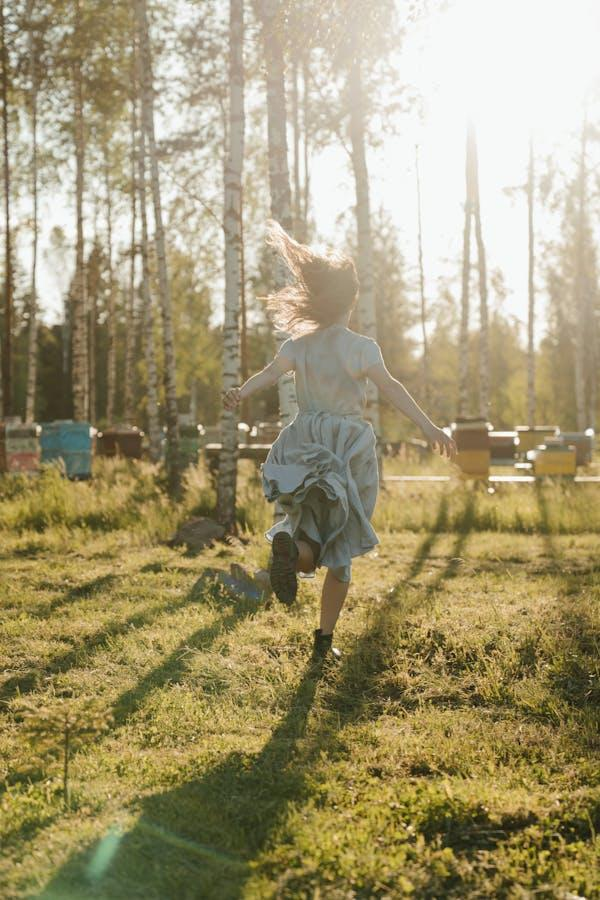NoHuman: (0, 23, 600, 900)
